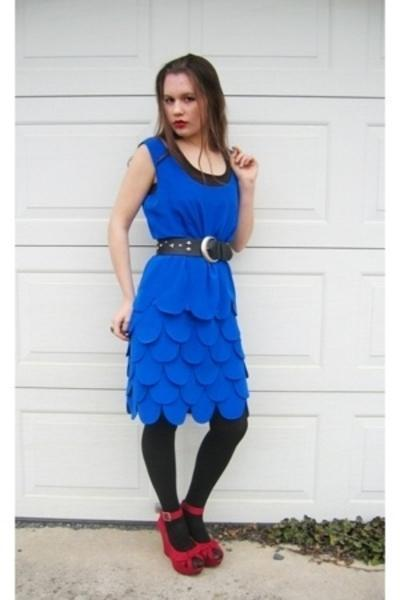dress: (126, 132, 248, 426)
shoe: (157, 498, 222, 576)
